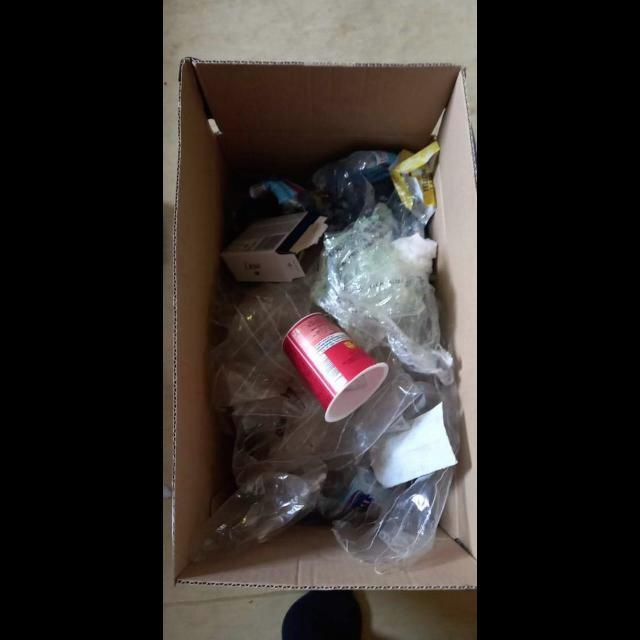cardboard: (220, 211, 329, 283)
paper: (370, 402, 459, 487)
plastic_bag: (200, 473, 326, 550)
plastic_bottle: (312, 150, 397, 223)
